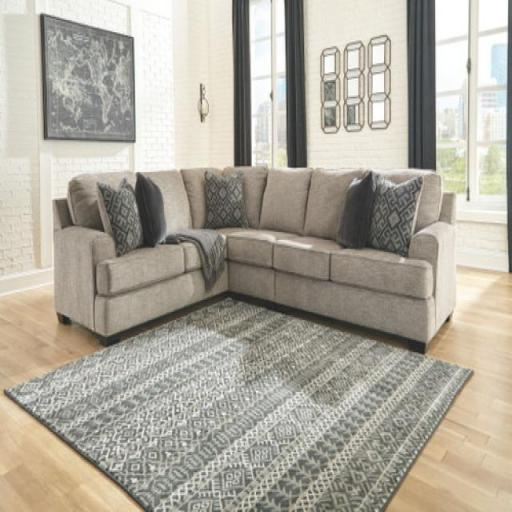sofa: (24, 150, 502, 366)
